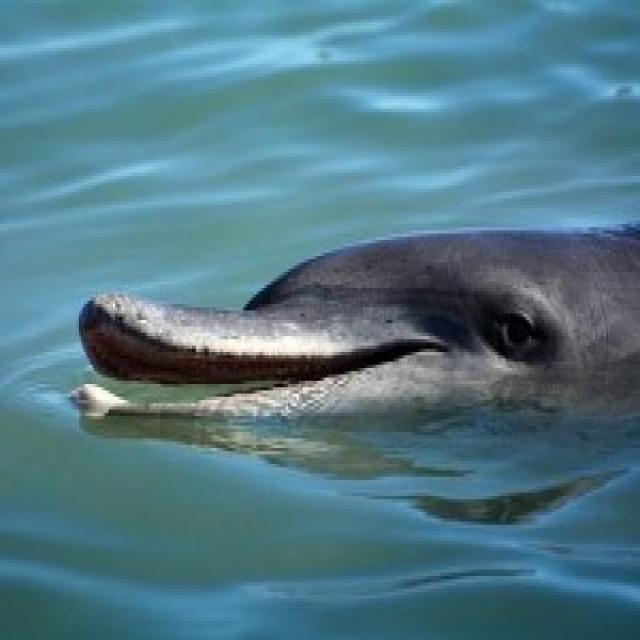Dolphin: (46, 214, 640, 544)
